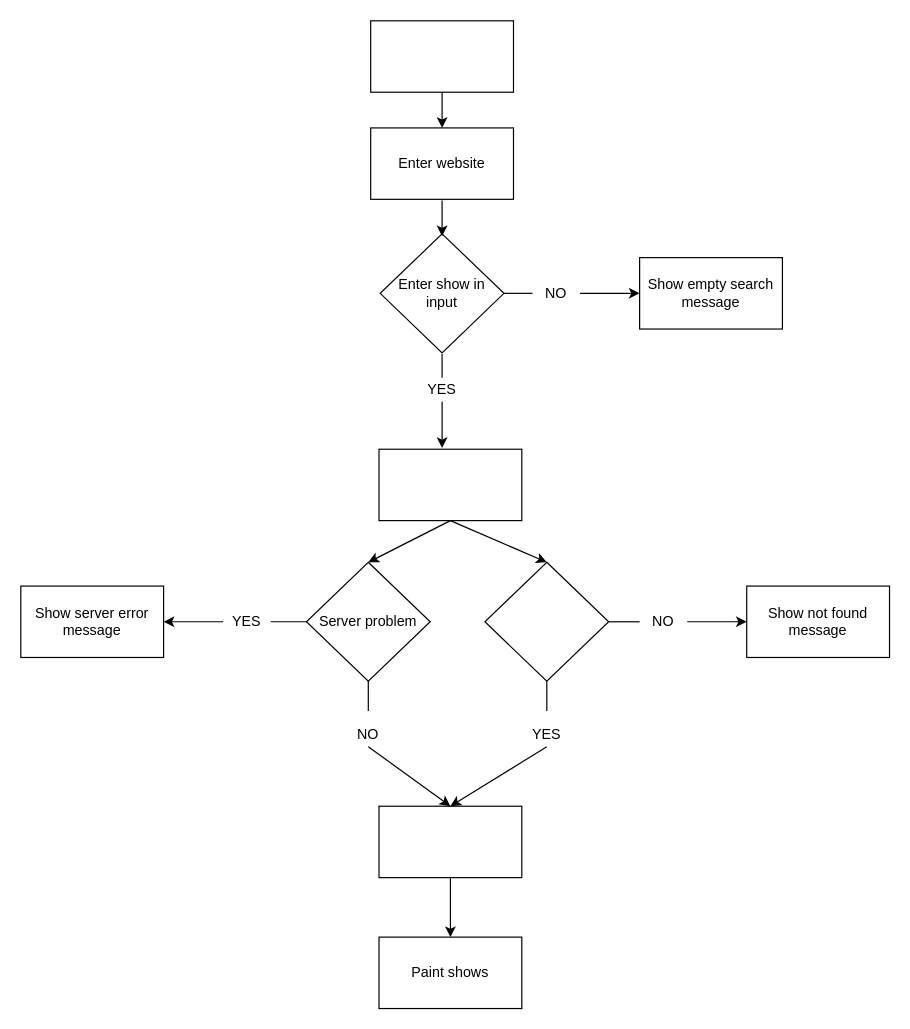
This 910x1029 diagram has some shape labels left out. Each missing label, with the box of its shape:
Call the API: (378, 448, 522, 521)
Save data in searched shows array: (378, 805, 522, 878)
Start: (369, 20, 513, 92)
TV-series exist: (484, 561, 609, 681)
